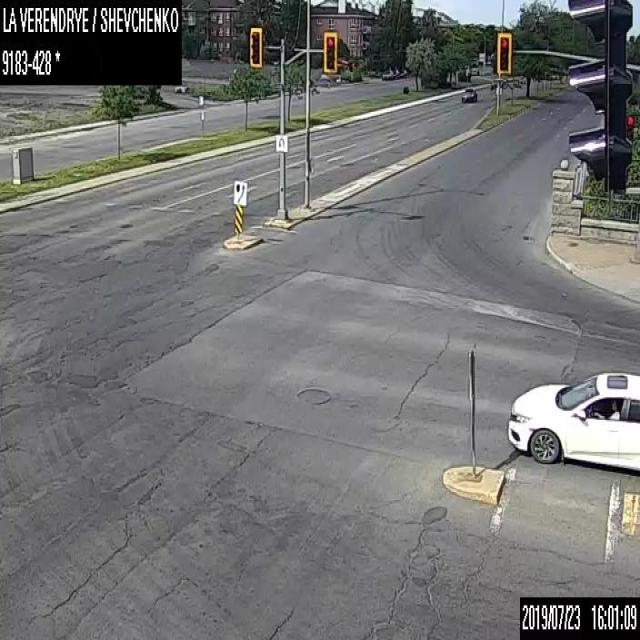vehicle: (507, 369, 639, 472), (461, 88, 476, 101), (490, 77, 503, 90), (381, 68, 392, 80), (391, 68, 399, 78), (399, 68, 407, 77)
